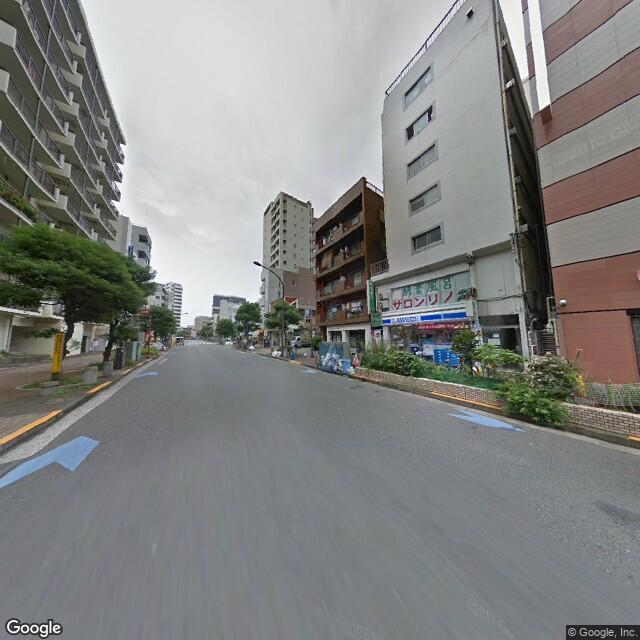lawson: (380, 303, 471, 330)
